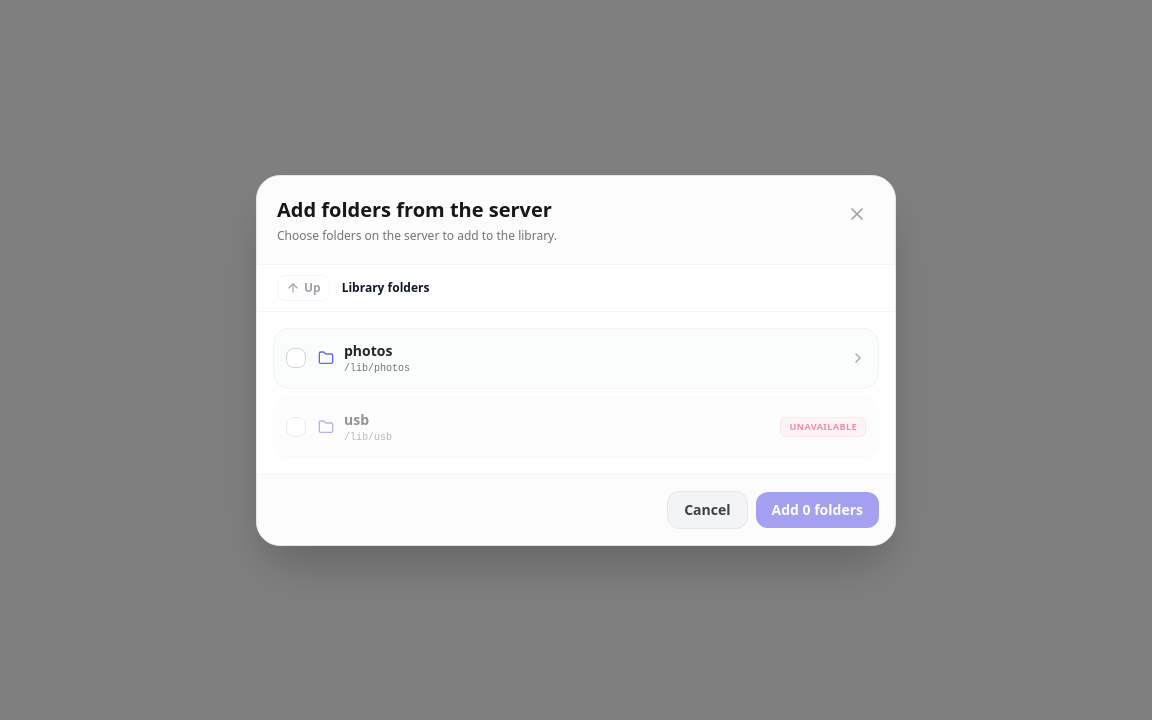
Scenario: FolderPickerModal › adds the ticked folders, across folders and including the current one
Later steps or results of the test are not shown.
Click the checkbox named "Select photos".
click(296, 358)  # box [286,348,306,368]
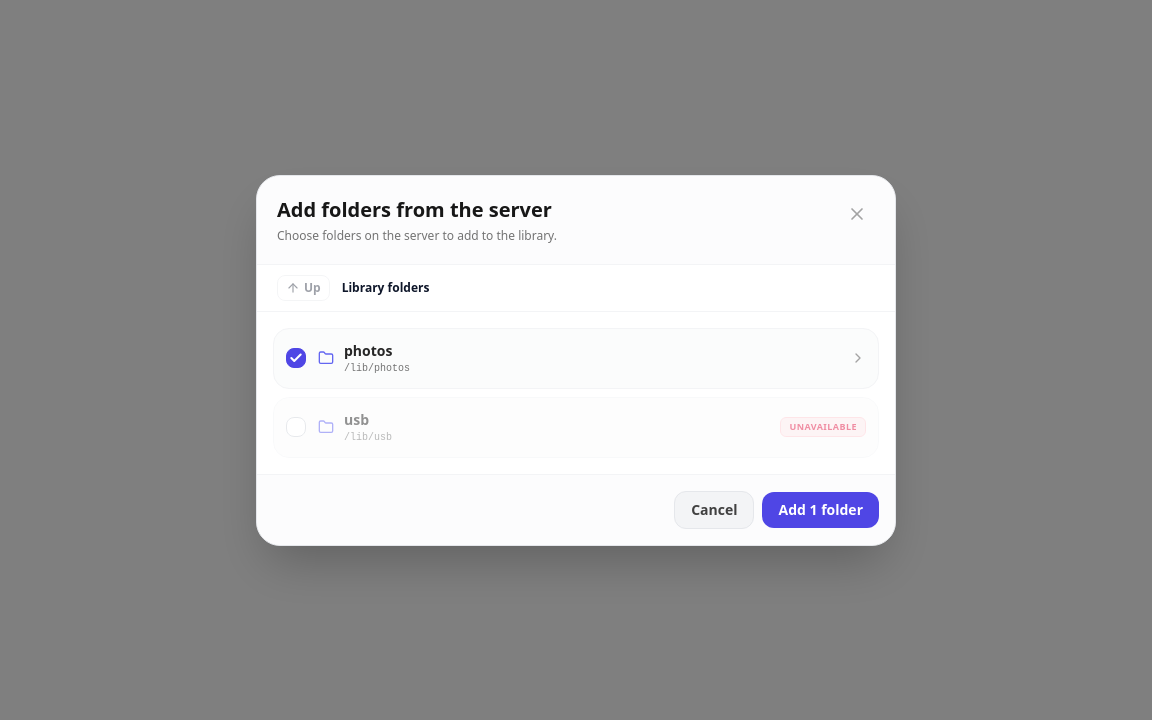
Check: the button "Add 1 folder" is shown, box [762,492,879,528]
Click the button with aria-label "Open photos".
click(368, 350)  # box [318,340,866,376]
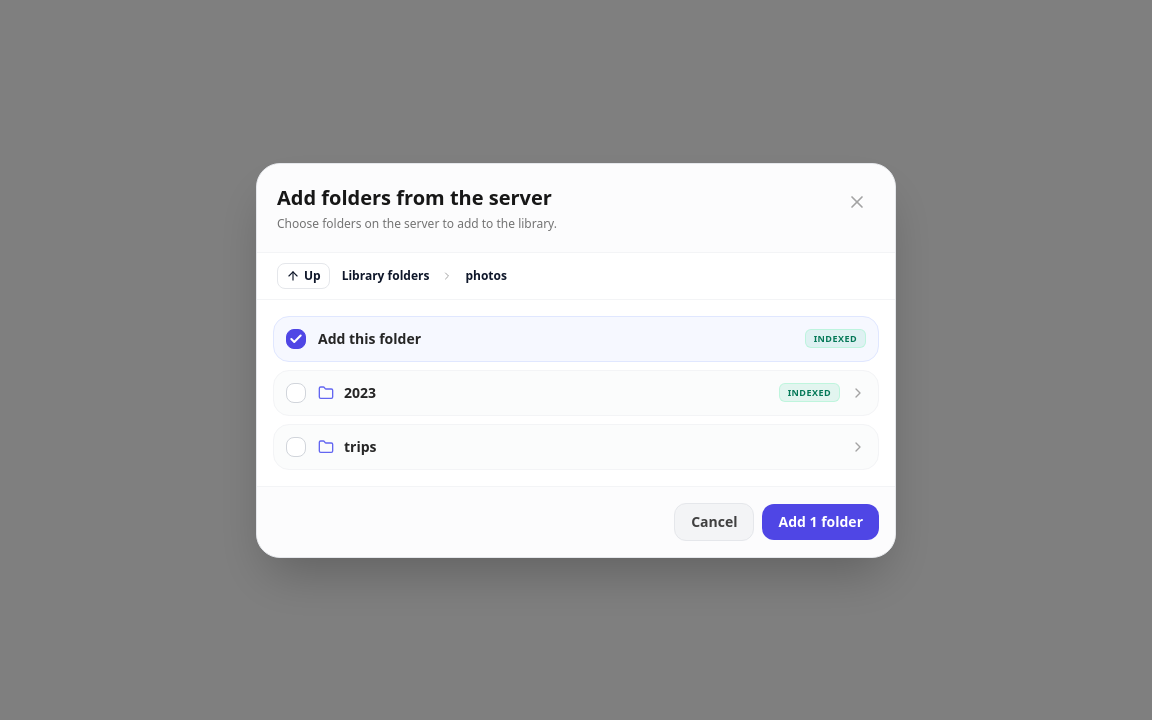
Check: the button with aria-label "Open trips" is shown, box [318,436,866,456]
Click the checkbox named "Select 2023".
click(296, 392)  # box [286,382,306,402]
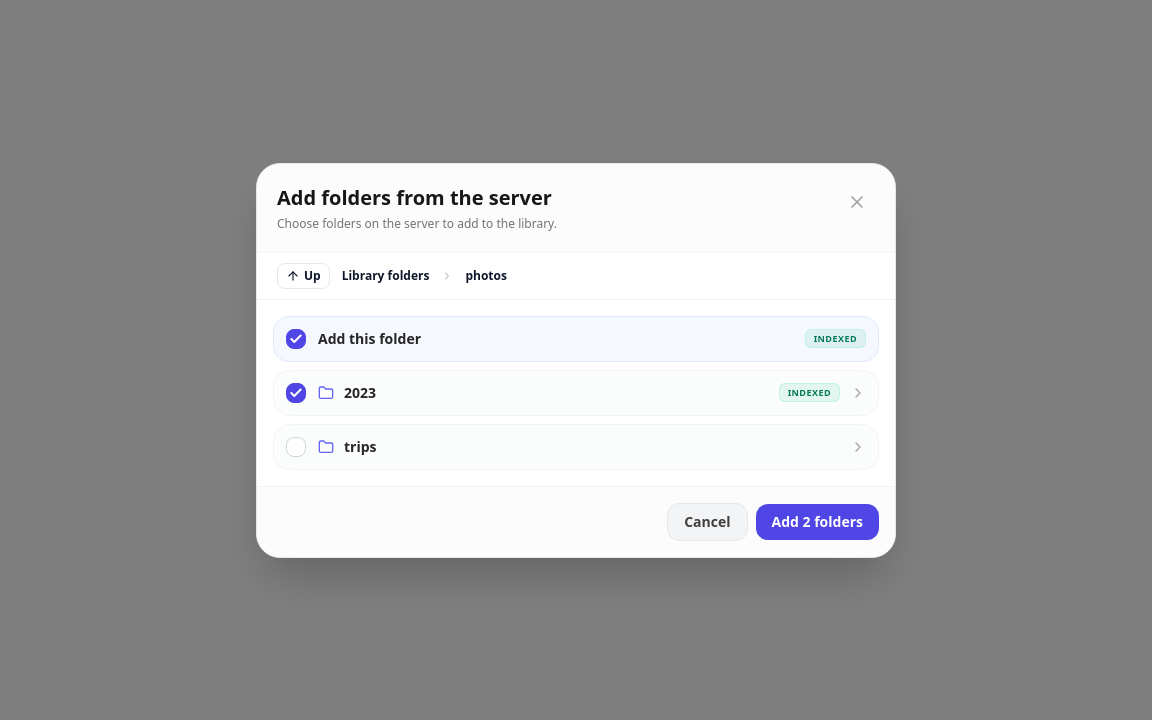
Click the button with aria-label "Open trips".
click(360, 446)  # box [318,436,866,456]
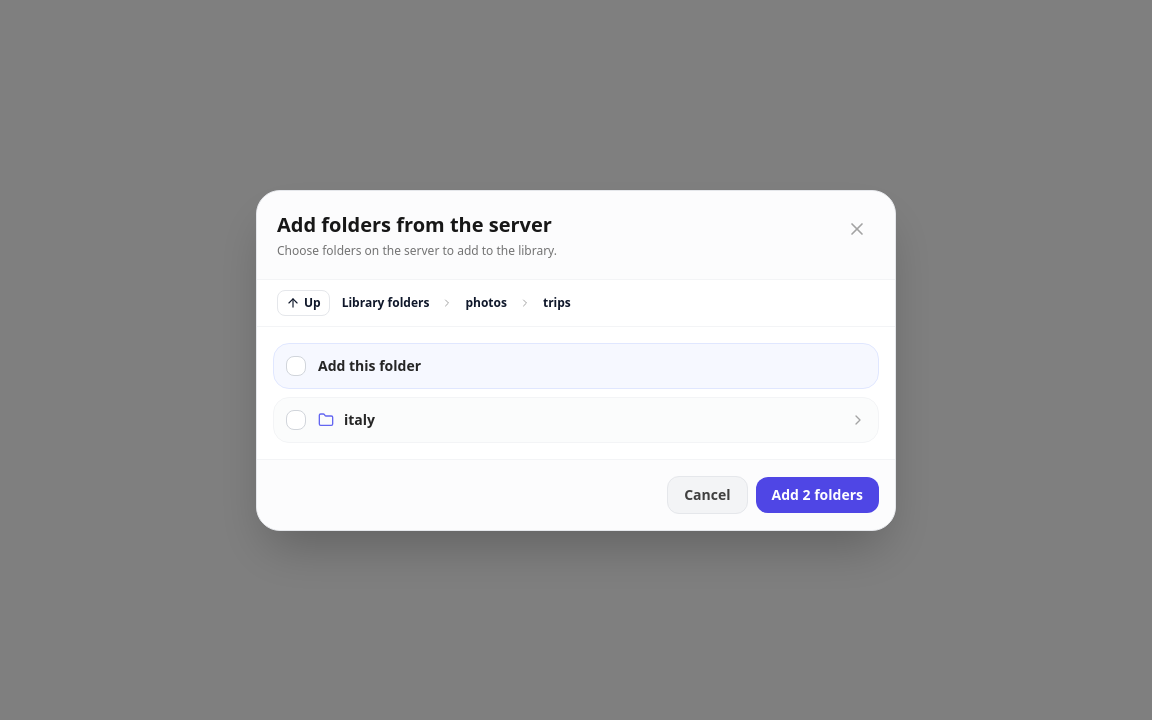
Check: the button with aria-label "Open italy" is shown, box [318,410,866,430]
Click the checkbox named "Add this folder".
click(296, 366)  # box [286,356,306,376]
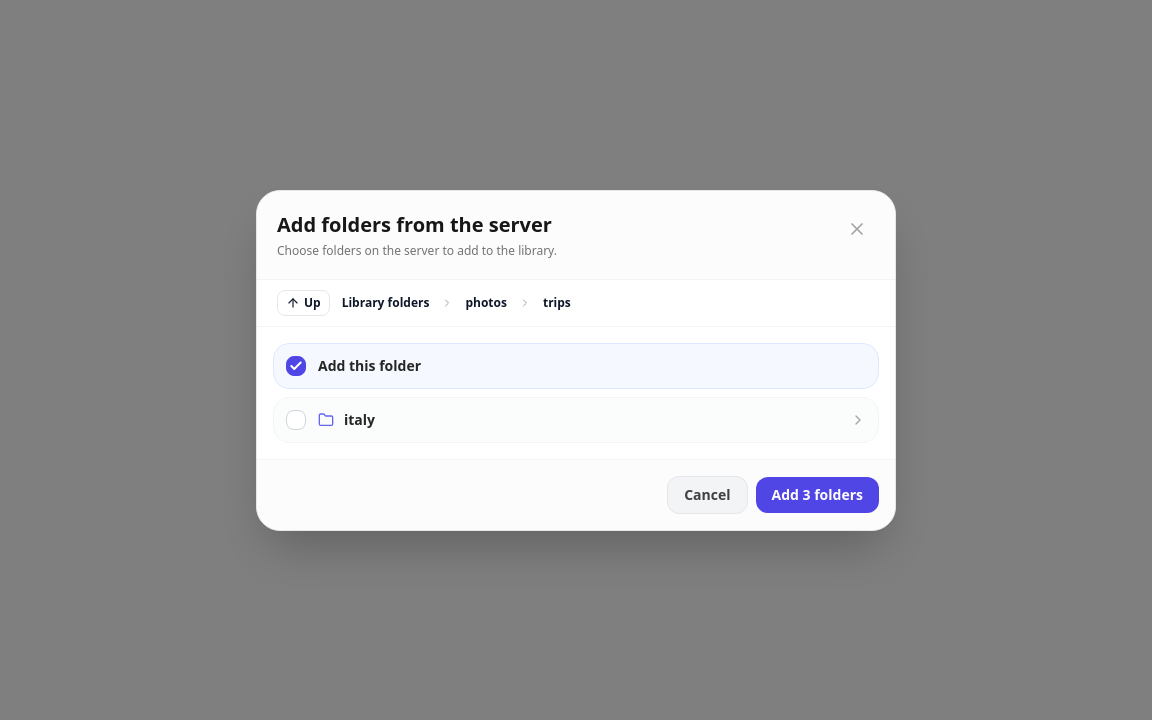
Check: the button "Add 3 folders" is shown, box [756,476,879,512]
